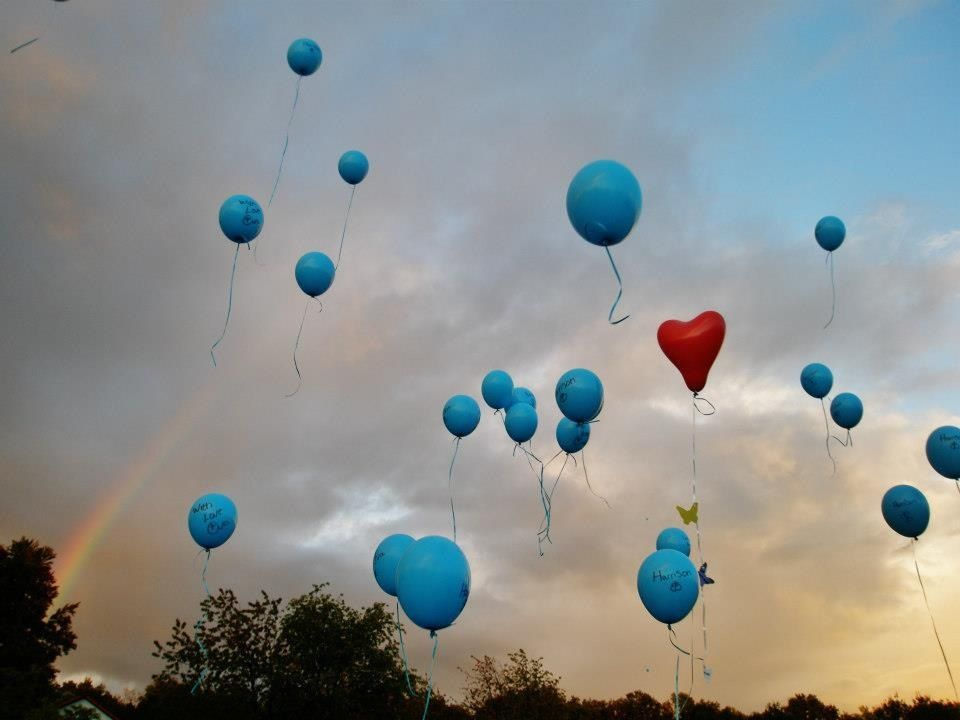Balloon: (395, 536, 470, 629), (565, 160, 642, 246), (656, 311, 726, 393), (638, 548, 698, 624), (372, 534, 416, 596), (190, 493, 236, 551), (555, 368, 604, 422), (881, 484, 930, 538), (218, 194, 264, 243), (925, 425, 960, 480), (295, 252, 335, 296), (442, 394, 480, 436), (287, 38, 323, 76), (504, 404, 537, 442), (830, 393, 864, 429), (482, 370, 513, 409), (556, 418, 590, 453), (800, 363, 833, 399), (814, 215, 846, 252), (338, 150, 369, 184)
